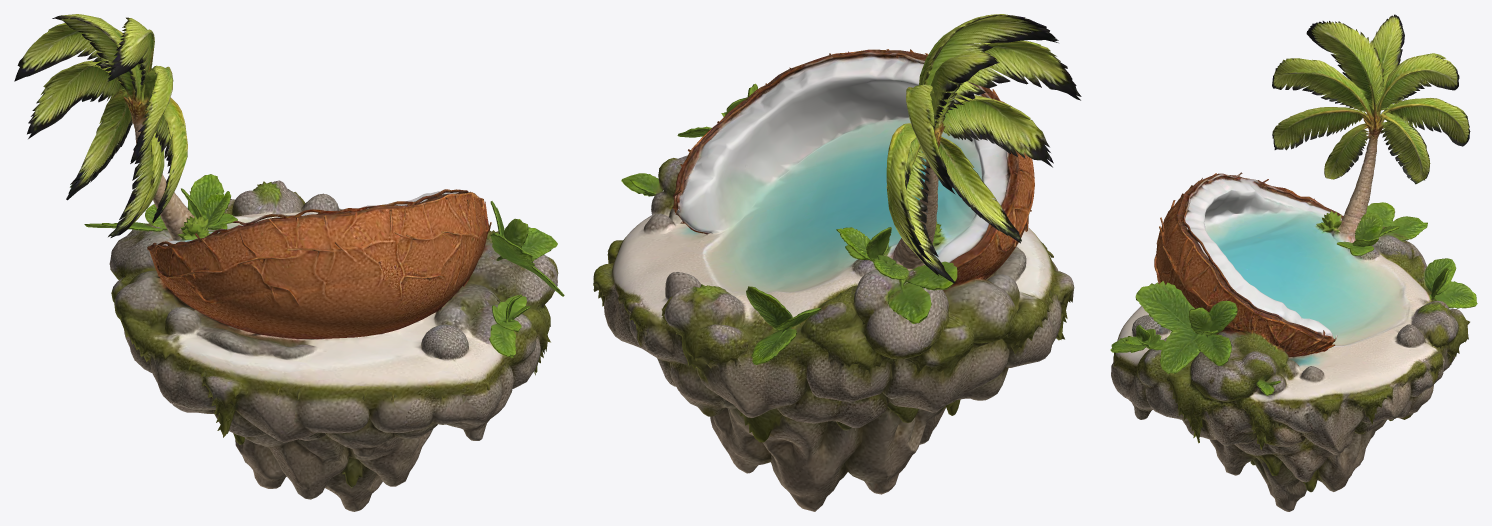
The model's file is isl-coconut.glb.
The picture shows the model from 3 angles, left to right: view 1: azimuth 30°, elevation 25°; view 2: azimuth 150°, elevation 25°; view 3: azimuth 270°, elevation 25°; orthographic projection. The views are drawn at different scales.
Parts seen in each view (by area): view 1: tripo_node_dcd2e28d-182b-4cf1-9ffd-1992ecf3e4d6; view 2: tripo_node_dcd2e28d-182b-4cf1-9ffd-1992ecf3e4d6; view 3: tripo_node_dcd2e28d-182b-4cf1-9ffd-1992ecf3e4d6.
Boxes of the visible parts, left/top/right/bottom form: tripo_node_dcd2e28d-182b-4cf1-9ffd-1992ecf3e4d6: left=14, top=14, right=564, bottom=511; tripo_node_dcd2e28d-182b-4cf1-9ffd-1992ecf3e4d6: left=593, top=14, right=1081, bottom=511; tripo_node_dcd2e28d-182b-4cf1-9ffd-1992ecf3e4d6: left=1110, top=14, right=1477, bottom=511.
Bounding box in the file's own units: 0.8489 × 0.9798 × 0.7937.
1 material, 1 textured.
